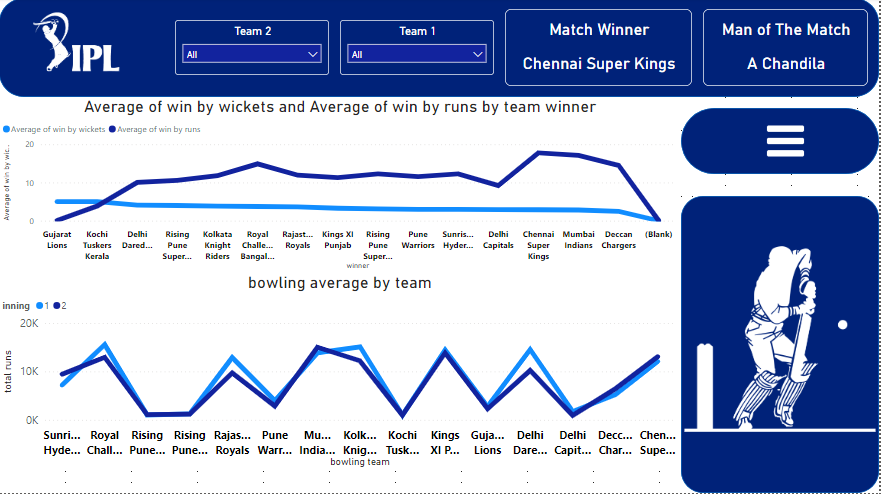

This screenshot's page, from the dashboard's own definition file:
{"tool":"powerbi","page":{"name":"teams","canvas":[1280,720],"ordinal":3},"visuals":[{"type":"shape","box":[992,288,288,432],"z":0},{"type":"shape","box":[0,0,1280,144],"z":1000},{"type":"image","box":[16,16,192,96],"z":2000},{"type":"slicer","title":"Team 2","fields":{"Values":["matches.team2"]},"box":[256,32,224,80],"z":3000},{"type":"slicer","title":"Team 1","fields":{"Values":["matches.team1"]},"box":[496,32,224,80],"z":4000},{"type":"card","title":"Man of The Match","fields":{"Values":["Min(matches.player_of_match)"]},"box":[1024,16,240,112],"z":5000},{"type":"card","title":"Match Winner","fields":{"Values":["Min(matches.winner)"]},"box":[736,16,272,112],"z":6000},{"type":"shape","box":[992,160,288,96],"z":7000},{"type":"image","box":[992,288,288,416],"z":8000},{"type":"image","box":[1104,176,80,64],"z":9000},{"type":"lineChart","title":"Average of win by wickets and Average of win by runs by team winner","fields":{"Y":["Avg(matches.win_by_wickets)","Avg(matches.win_by_runs)"],"Category":["matches.winner"]},"box":[0,144,992,256],"z":15000},{"type":"lineChart","title":"bowling average by team","fields":{"Category":["deliverydf.bowling_team"],"Series":["deliverydf.inning"],"Y":["Sum(deliverydf.total_runs)"]},"box":[0,400,992,288],"z":16000}]}

Visuals, with their boxes in screenshot pixels (x1, y1, x2, y2), scaled from the page's 1280x720 canvas onto the 882x494 screenshot:
shape: <box>684,198,881,493</box>
shape: <box>0,0,881,99</box>
image: <box>11,11,143,77</box>
"Team 2" slicer: <box>176,22,331,77</box>
"Team 1" slicer: <box>342,22,496,77</box>
"Man of The Match" card: <box>706,11,871,88</box>
"Match Winner" card: <box>507,11,695,88</box>
shape: <box>684,110,881,176</box>
image: <box>684,198,881,483</box>
image: <box>761,121,816,165</box>
"Average of win by wickets and Average of win by runs by team winner" lineChart: <box>0,99,684,274</box>
"bowling average by team" lineChart: <box>0,274,684,472</box>
